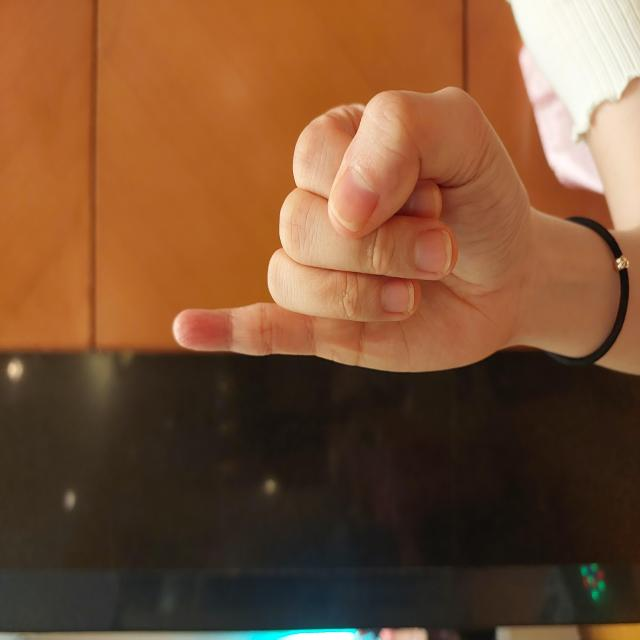I: (265, 172, 555, 531)
